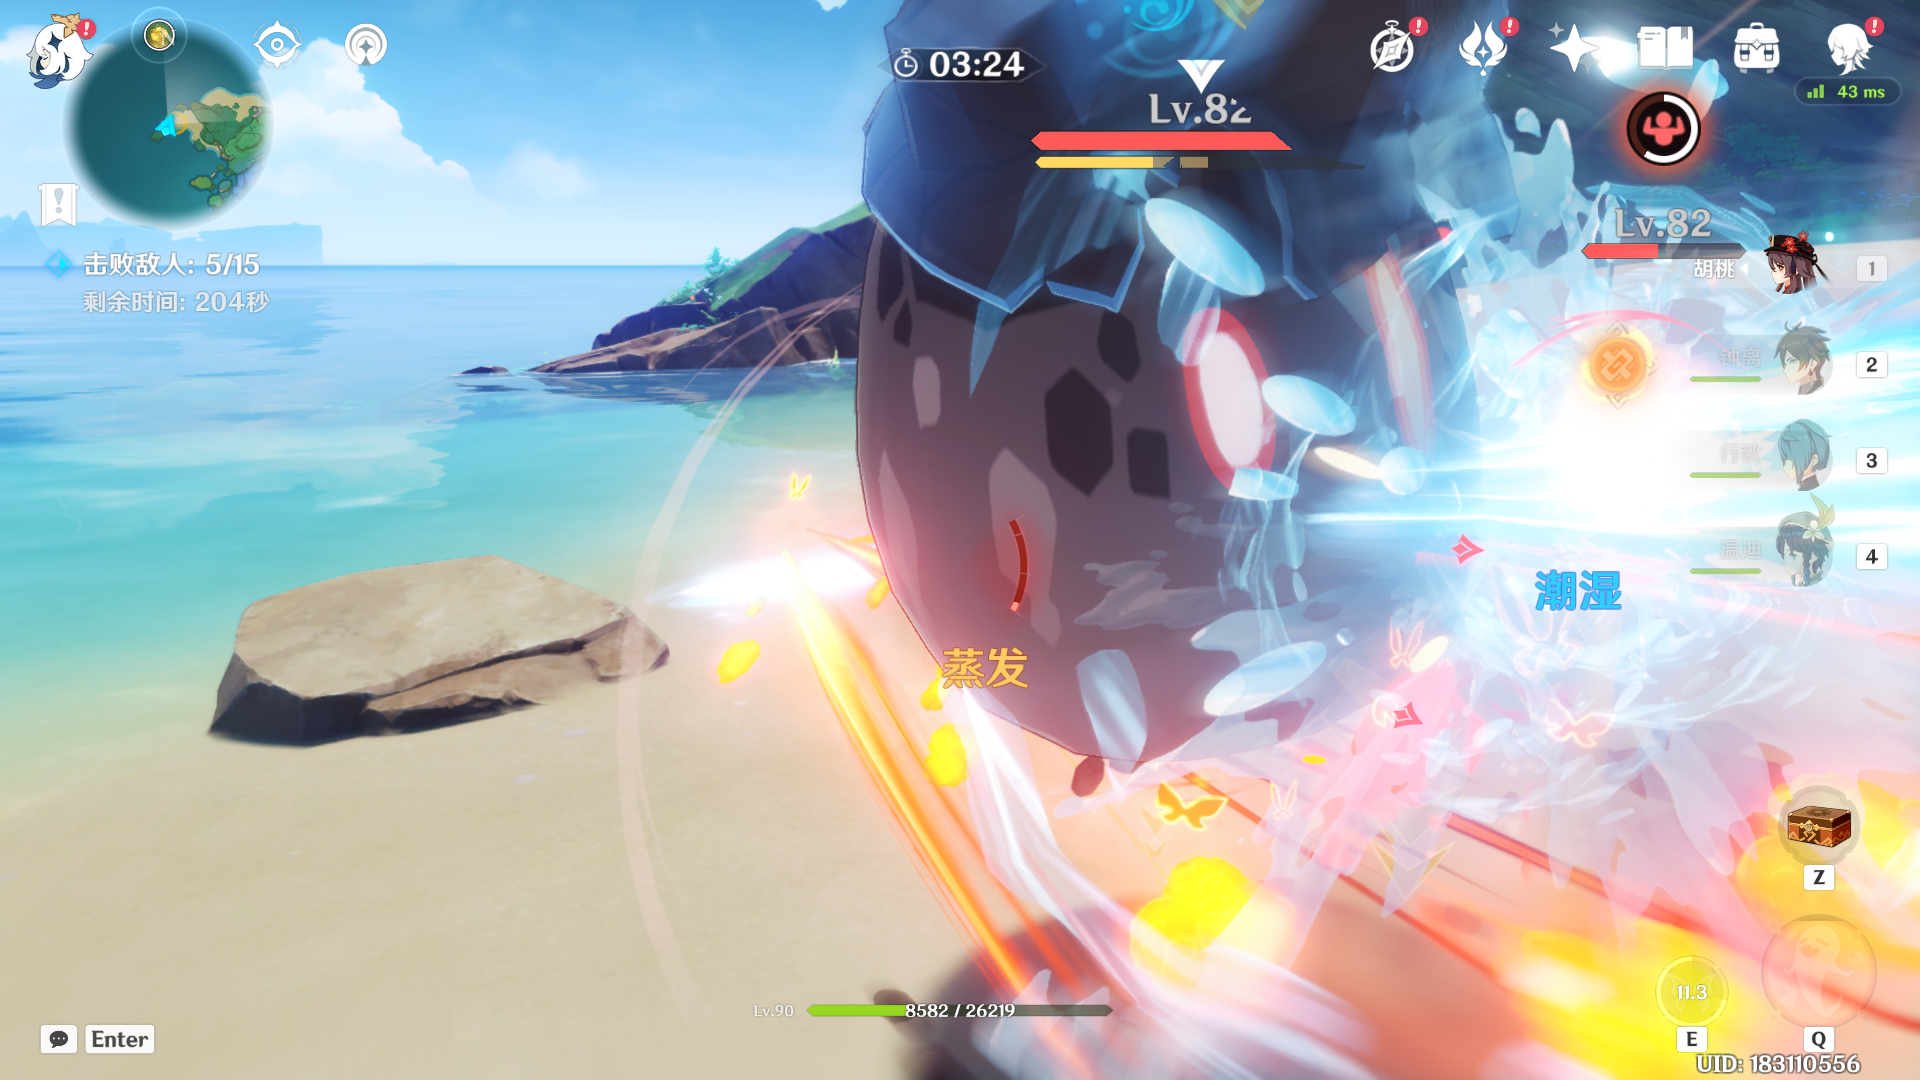slime: (820, 1, 1857, 833)
